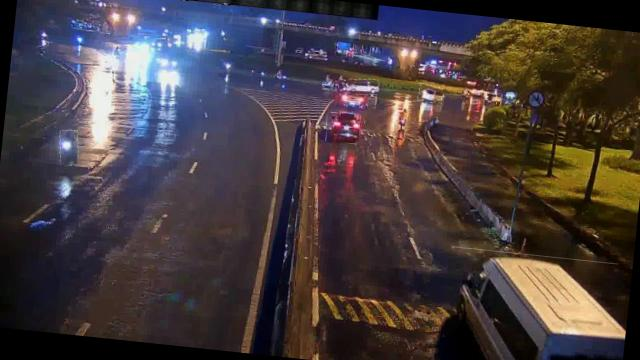Bike: (58, 129, 80, 166), (398, 105, 408, 128)
Bus: (439, 246, 619, 360)
Car: (326, 112, 362, 144), (346, 78, 379, 96), (418, 85, 443, 104)
